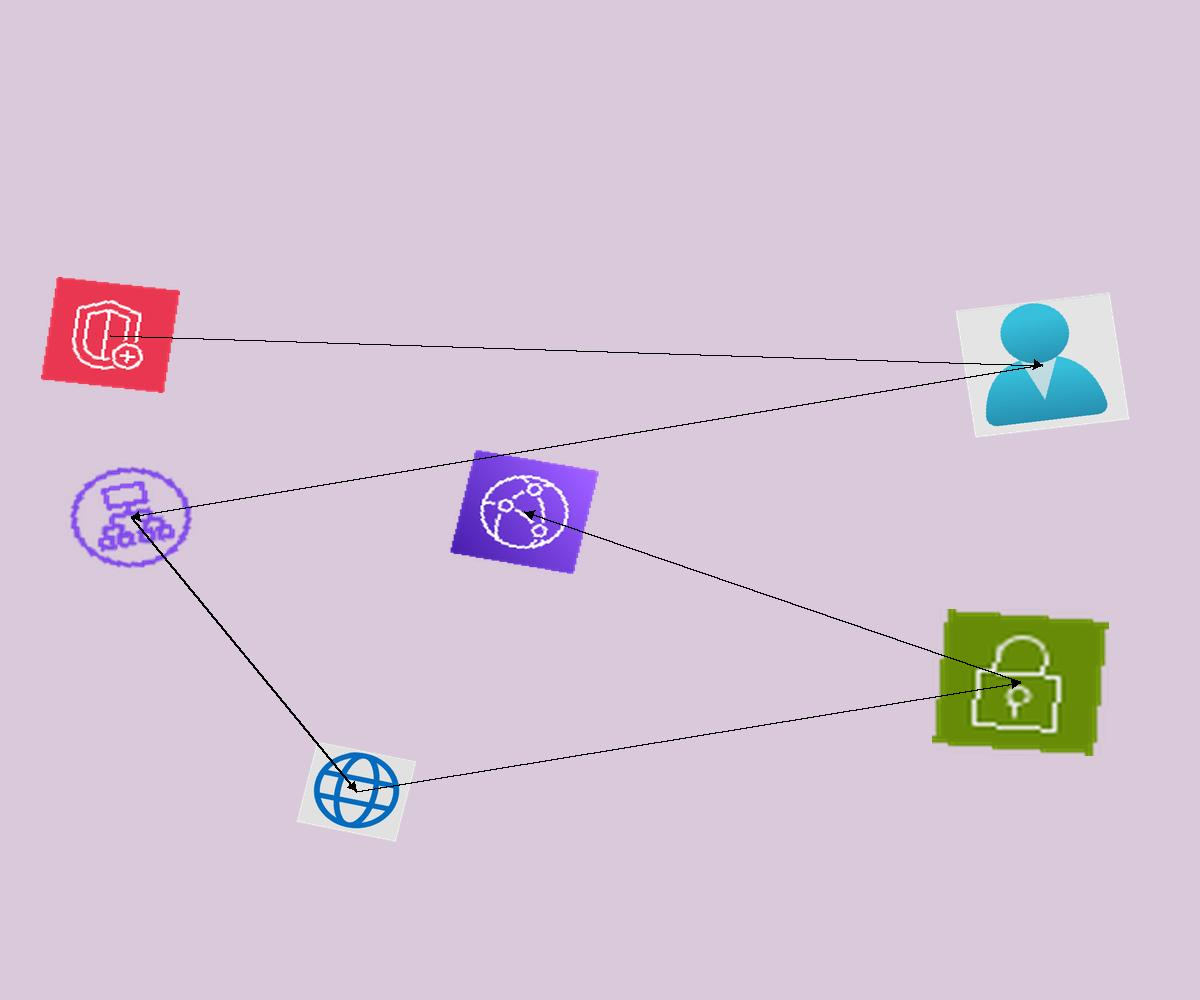AWS-CloudFront: (449, 449, 600, 575)
AWS-Public-subnet: (932, 609, 1109, 756)
AWS-Res_Elastic-Load-Balancing_Application-Load-Balancer: (52, 452, 210, 583)
AWS-Shield: (41, 277, 180, 393)
Azure_http: (296, 741, 417, 842)
Azure_users: (955, 292, 1130, 438)
